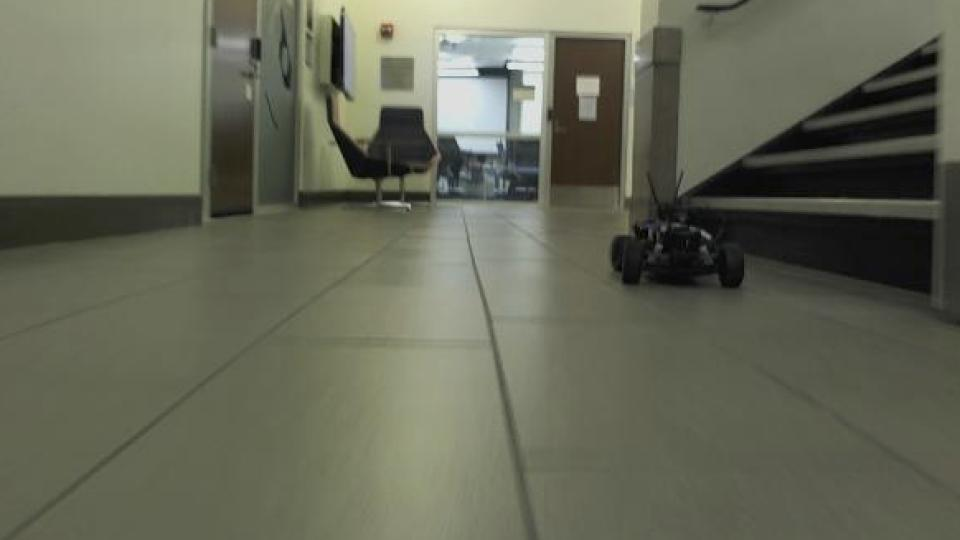car: (606, 166, 748, 292)
